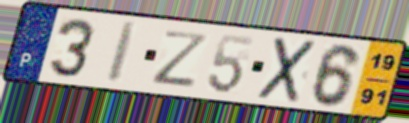3: (48, 16, 97, 79)
5: (205, 31, 257, 95)
6: (311, 42, 361, 109)
I: (104, 20, 141, 86)
X: (254, 35, 319, 105)
Z: (151, 28, 213, 89)
